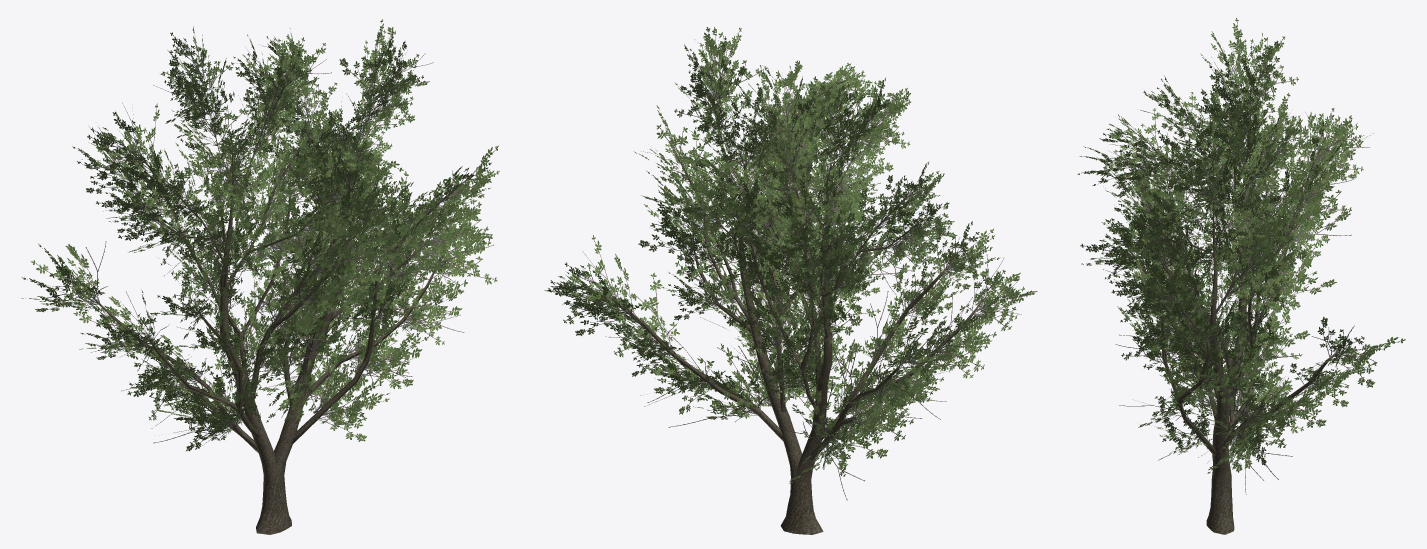
The model's file is Tree_A_B.fbx.
3 renders of one model, left to right at view 1: azimuth 30°, elevation 25°; view 2: azimuth 150°, elevation 25°; view 3: azimuth 270°, elevation 25°, orthographic. The views are drawn at different scales.
Visible parts, largest first — view 1: Tree_A_B_LOD0; view 2: Tree_A_B_LOD0; view 3: Tree_A_B_LOD0.
Part boxes in pixels (box(x1,y1,x2,y2)): Tree_A_B_LOD0: box(21, 19, 499, 534); Tree_A_B_LOD0: box(544, 27, 1037, 534); Tree_A_B_LOD0: box(1077, 18, 1405, 534).
Size of what is drawn, in the model's own units: 1189 by 1229 by 805.
